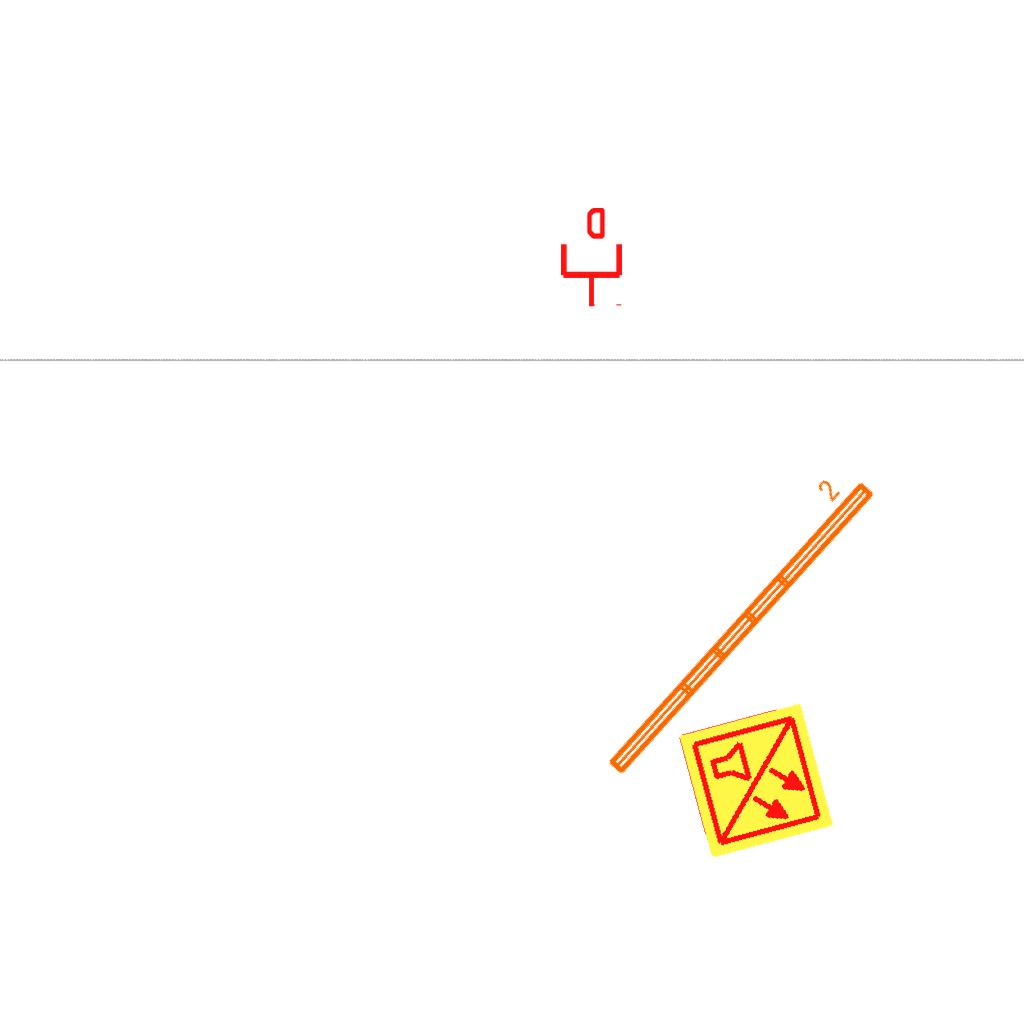Ambulanz_Pendelleuchte_LED: (581, 457, 882, 783)
Datenanschluss_einfach: (557, 208, 626, 308)
OKW_Multisensormelder_(Kombination_optischer_Rauch-Kahlenmonoxid_Waerme-Melder): (675, 700, 837, 862)
